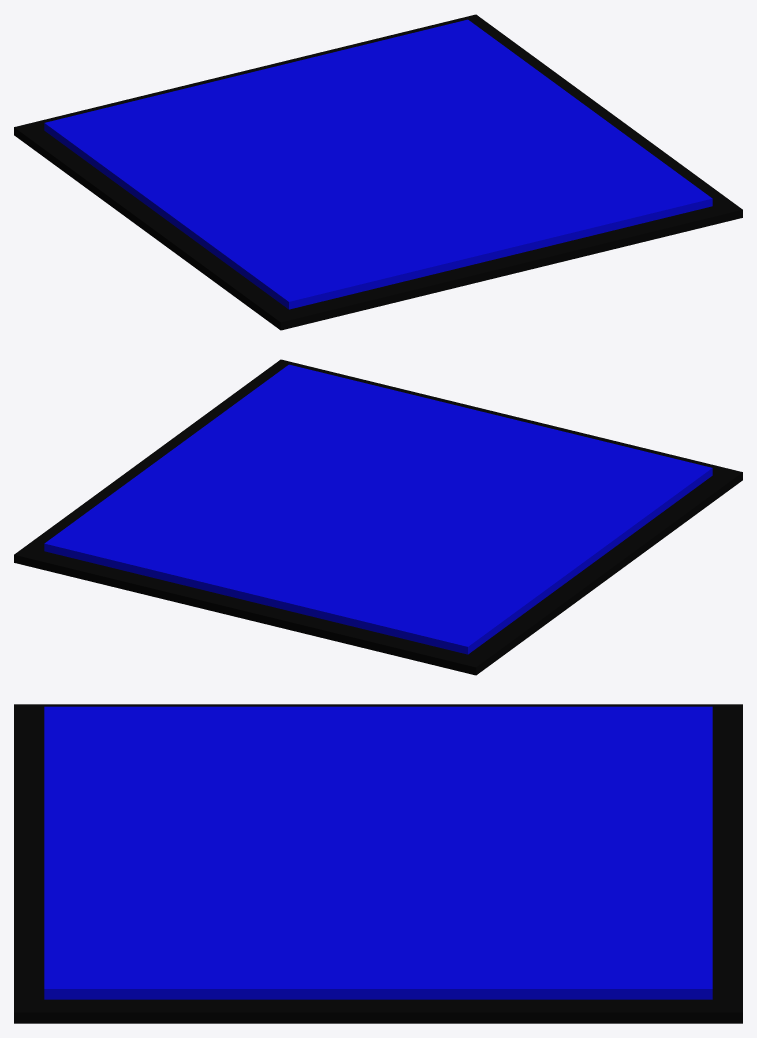
Rendered from BluePanel.fbx.
The picture shows the model from 3 angles, top to bottom: view 1: azimuth 30°, elevation 25°; view 2: azimuth 150°, elevation 25°; view 3: azimuth 270°, elevation 25°; orthographic projection. The views are drawn at different scales.
Visible parts, largest first — view 1: pCube3; view 2: pCube3; view 3: pCube3.
Boxes of the visible parts, bbox=[...] form: pCube3: bbox=[14, 14, 742, 330]; pCube3: bbox=[14, 359, 742, 675]; pCube3: bbox=[14, 704, 742, 1023].
Bounding box in the file's own units: 3 × 0.0979 × 3.
